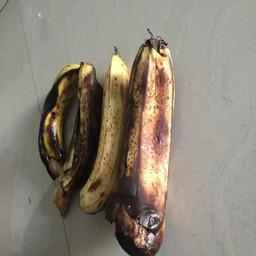Bad_banana: (121, 30, 171, 256), (37, 52, 75, 176), (73, 63, 99, 187)
